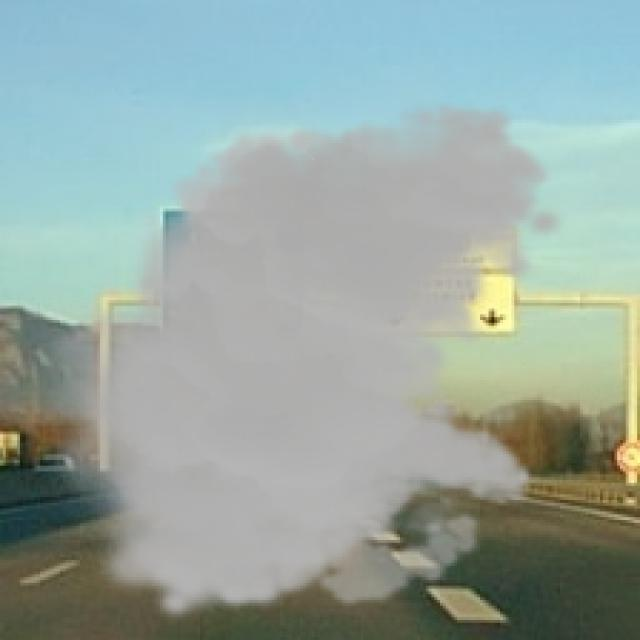smoke: (31, 100, 568, 623)
